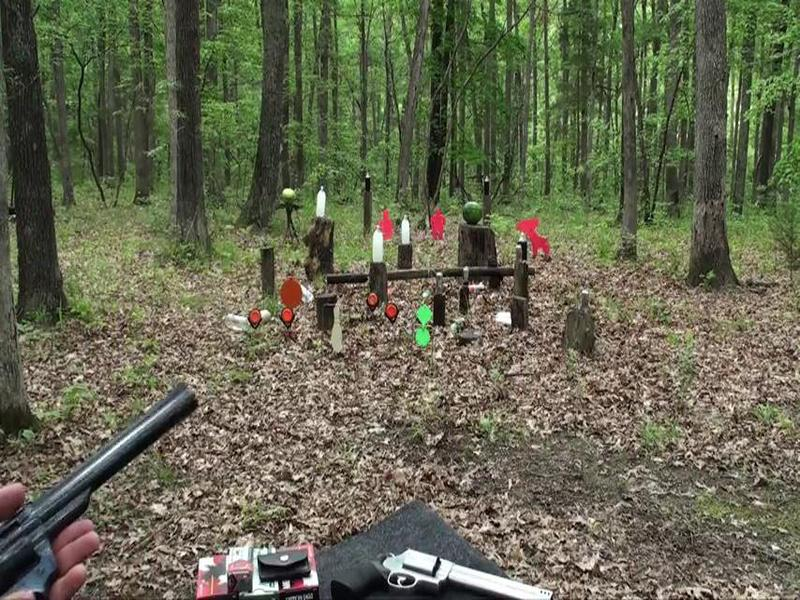Revolver: (1, 365, 207, 589)
